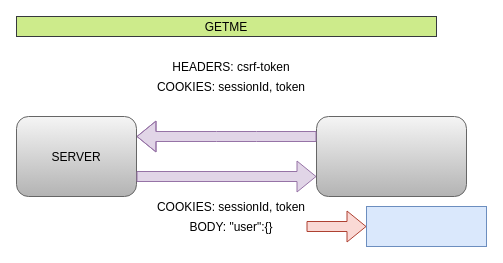
Some shapes in this 503 by 263 pixel diagram are drawn without their labels. Each missing label, with the centre of its shape:
"Aplication (RAM)" goes at point (426, 226).
"AUTHORIZATION CLIENT" goes at point (391, 156).
